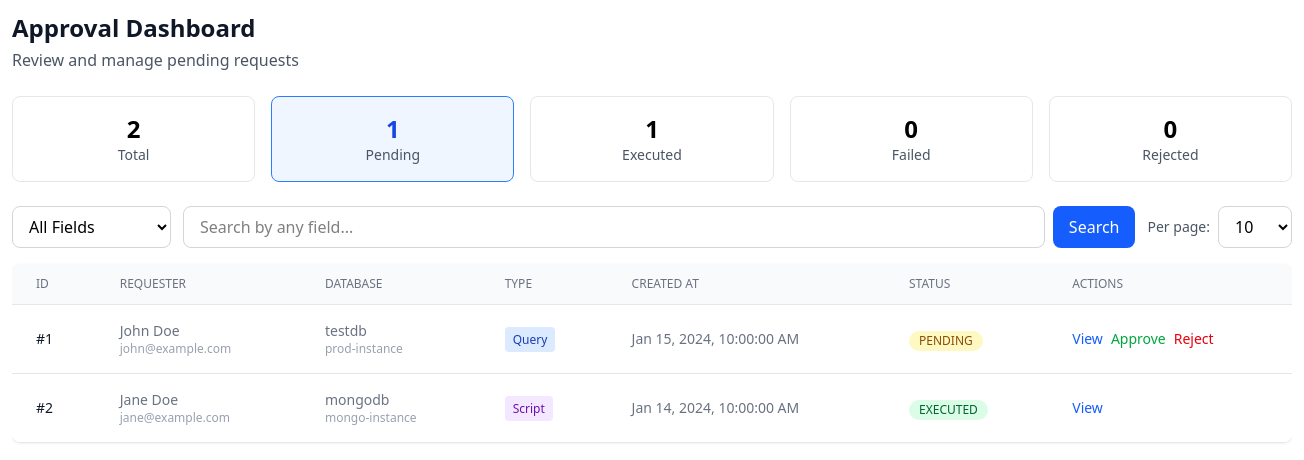
Test: ApprovalDashboard › should search by comments field
The width and height of the screenshot is (1304, 460).
Expected: the text "#1" is shown, x1=12 y1=304 x2=96 y2=374
Select "Comments" in the 1st dropdown at (92, 227), box x1=12 y1=206 x2=171 y2=248
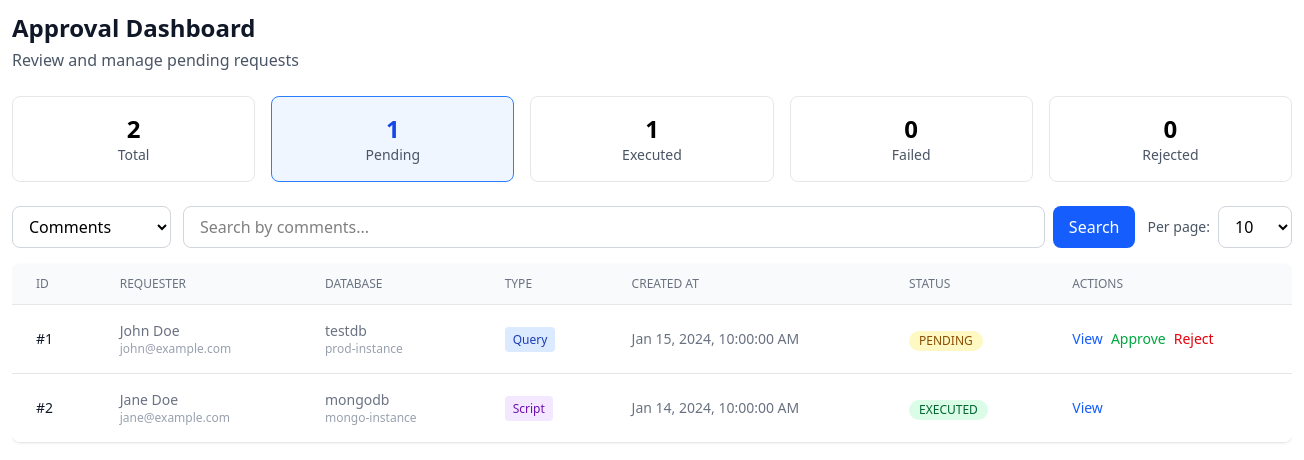
Expected: the 1st dropdown shows "Comments", x1=12 y1=206 x2=171 y2=248
